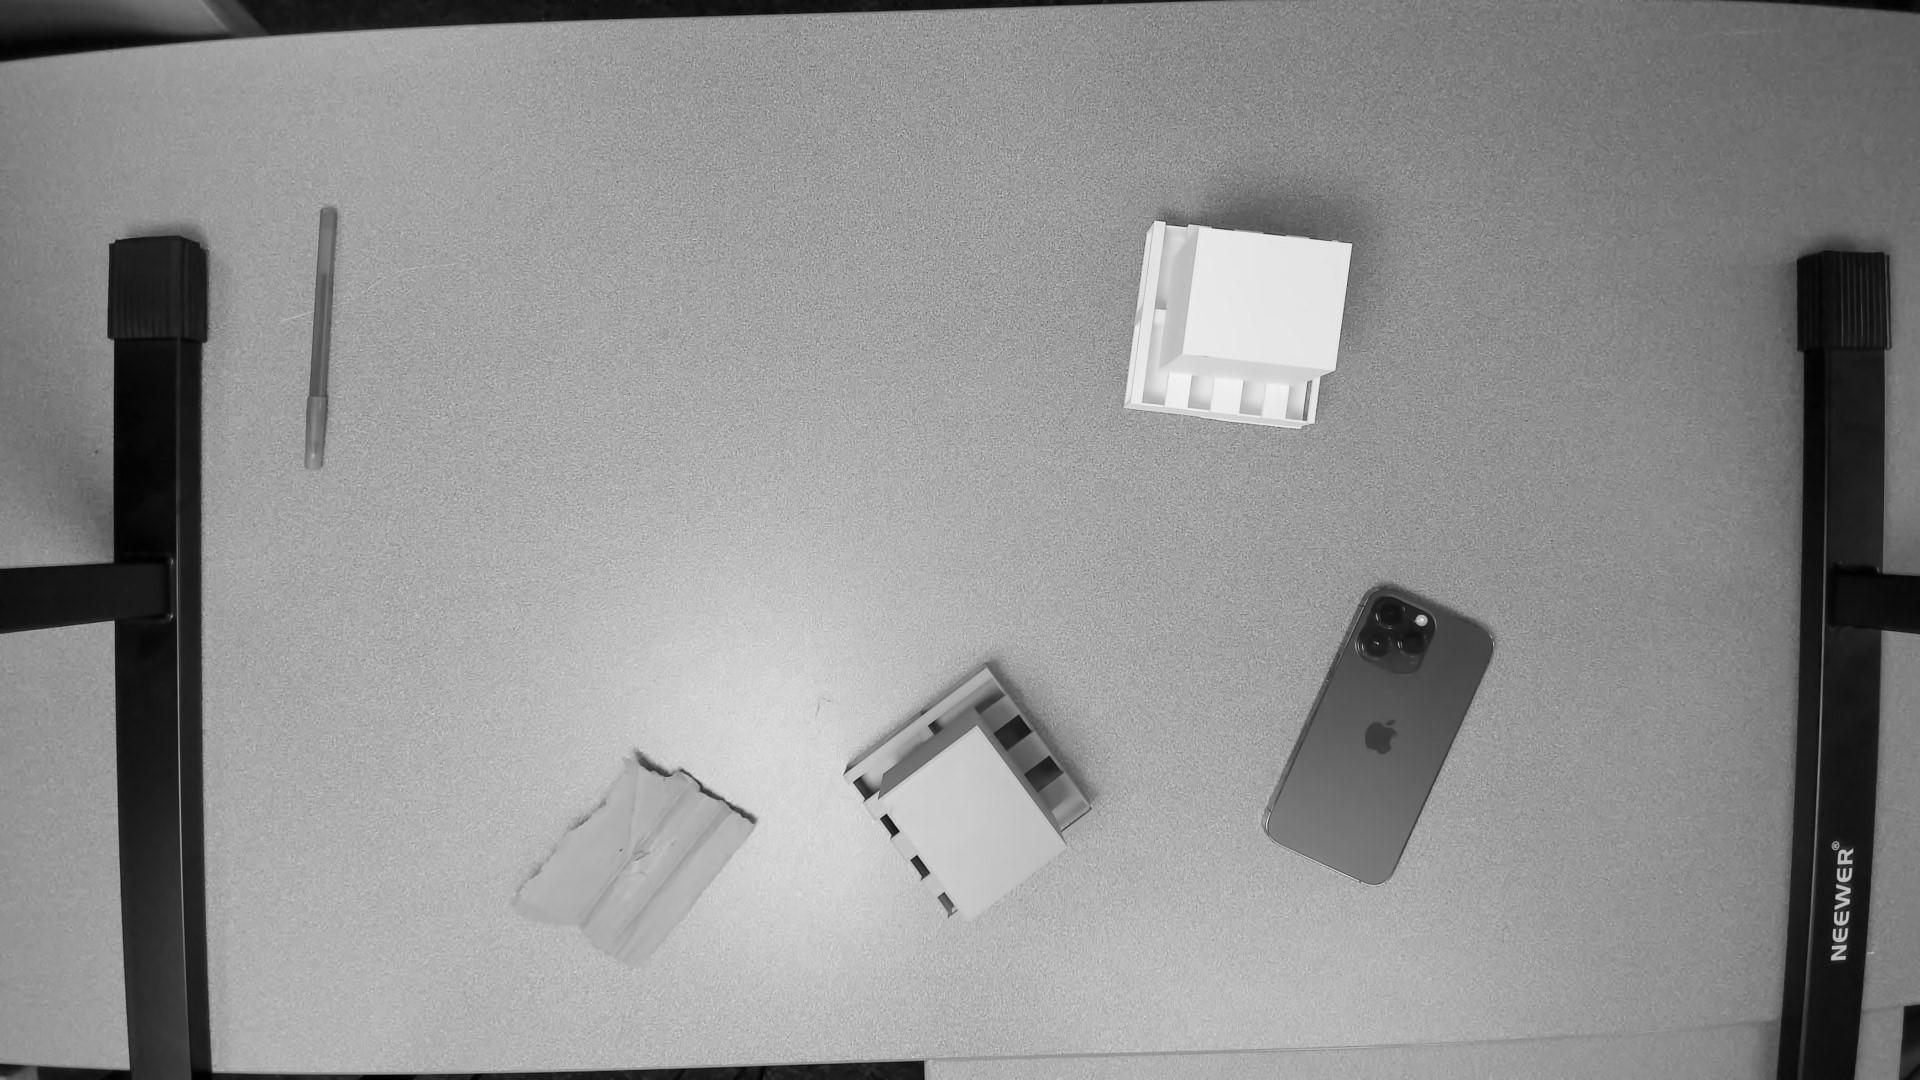grey pallet: (841, 655, 1108, 930)
white pallet: (1108, 200, 1366, 460)
